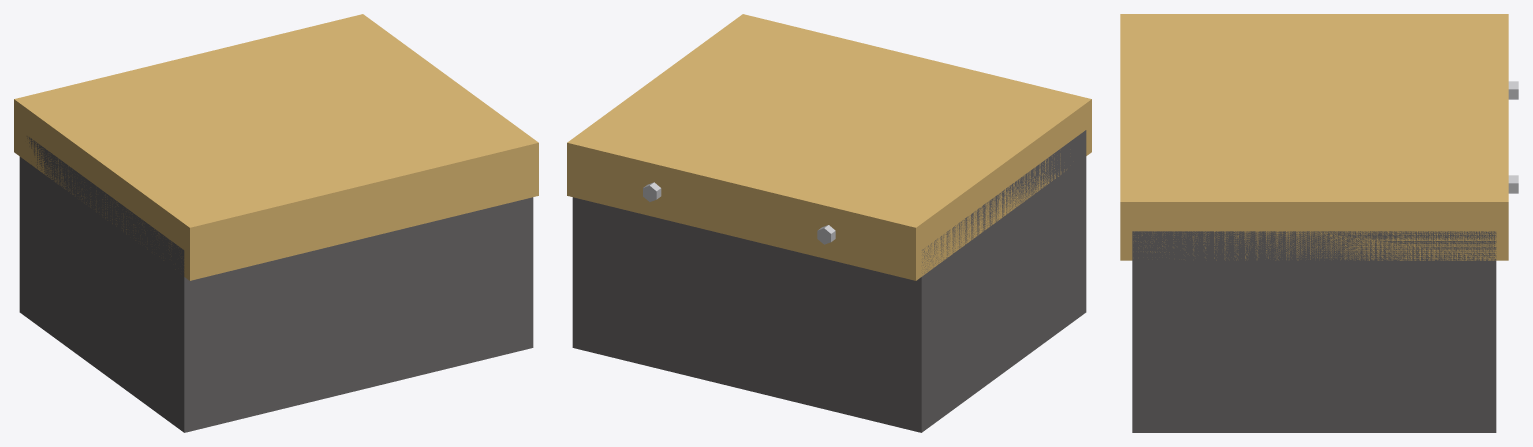
The model's file is CO_Tile_3.fbx.
3 views of the same model, side by side, from view 1: azimuth 30°, elevation 25°; view 2: azimuth 150°, elevation 25°; view 3: azimuth 270°, elevation 25° (orthographic). The views are drawn at different scales.
Visible parts, largest first — view 1: CO_Tile_3; view 2: CO_Tile_3; view 3: CO_Tile_3.
Part boxes in pixels (x1,y1,x2,y2): CO_Tile_3: (14, 14, 538, 432); CO_Tile_3: (567, 14, 1091, 432); CO_Tile_3: (1120, 14, 1518, 432).
Bounding box in the file's own units: 1.1 × 0.63 × 0.985.
